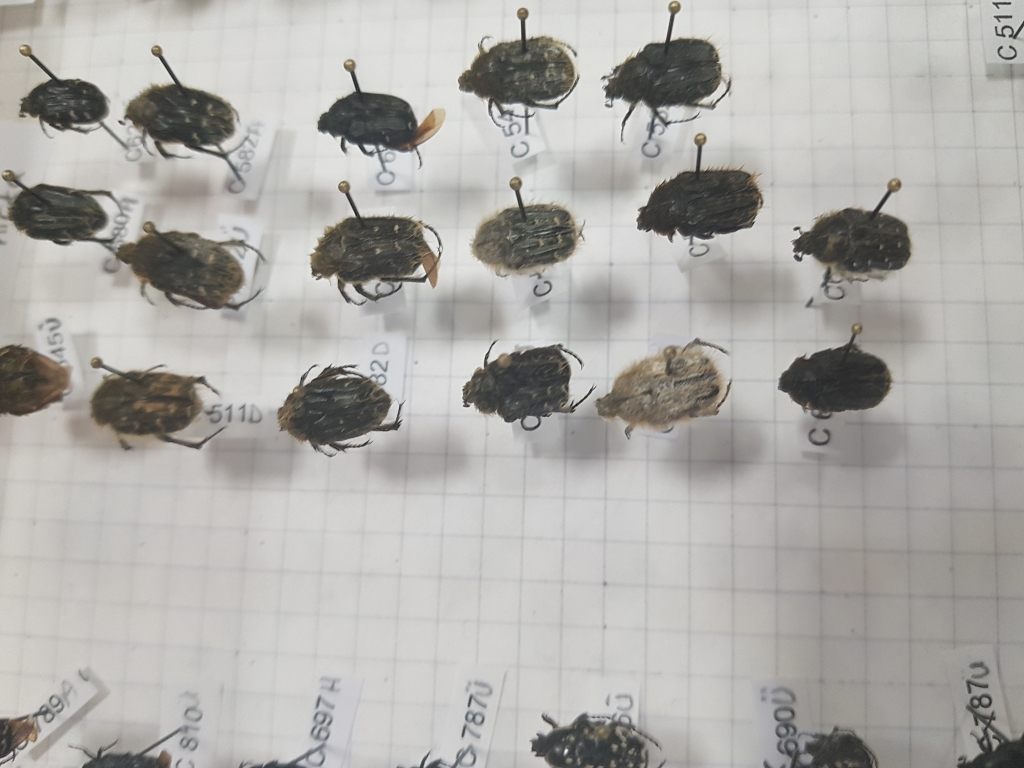Tropinota_hirta: (286, 199, 465, 306)
